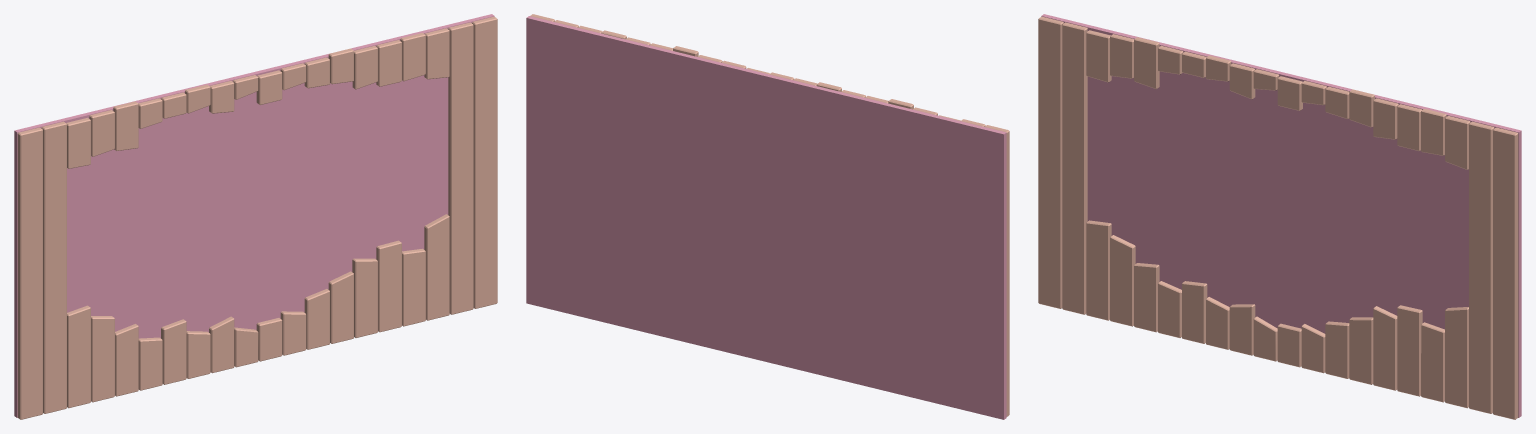
File: designerWall.fbx
3 views of the same model, side by side, from view 1: azimuth 30°, elevation 25°; view 2: azimuth 150°, elevation 25°; view 3: azimuth 330°, elevation 25° (orthographic).
Parts seen in each view (by area): view 1: designerWall; view 2: designerWall; view 3: designerWall.
Boxes of the visible parts, bbox=[...] form: designerWall: bbox=[14, 14, 497, 419]; designerWall: bbox=[526, 14, 1009, 419]; designerWall: bbox=[1038, 14, 1521, 419].
Size of the model in its own units: 331 by 191 by 7.26.
